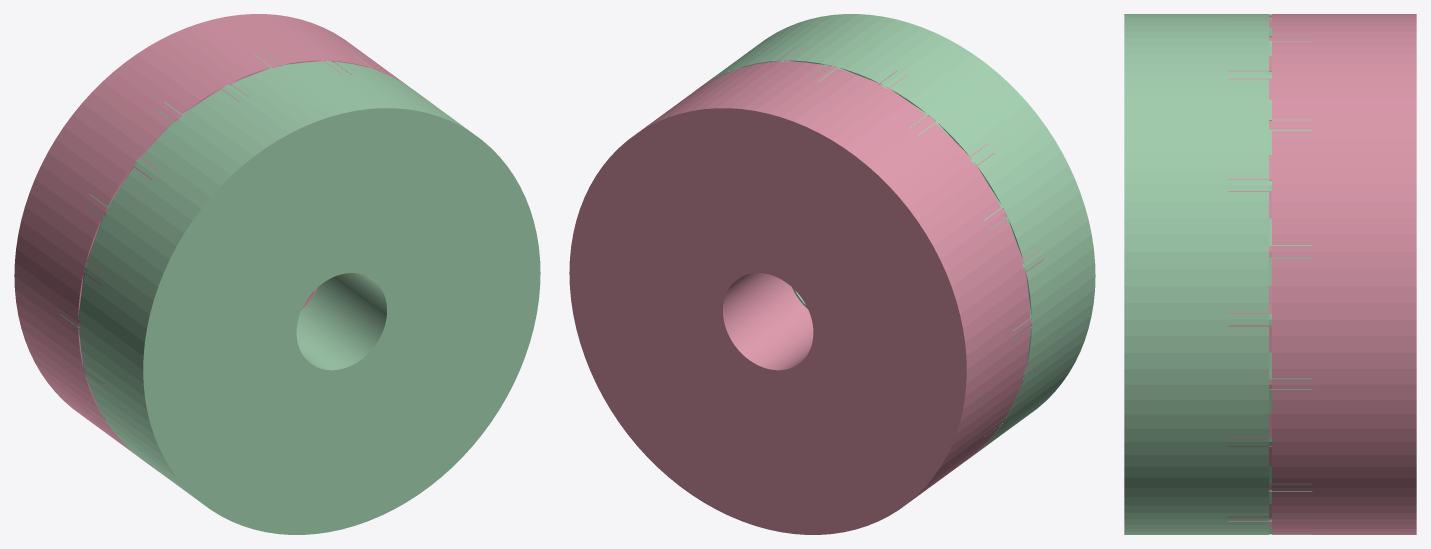
File: hirth_coupling_demo.glb
The picture shows the model from 3 angles, left to right: view 1: azimuth 30°, elevation 25°; view 2: azimuth 150°, elevation 25°; view 3: azimuth 270°, elevation 25°; orthographic projection. The views are drawn at different scales.
Parts seen in each view (by area): view 1: hub_b, hub_a; view 2: hub_a, hub_b; view 3: hub_b, hub_a.
Part boxes in pixels (box(x1,y1,x2,y2)): hub_b: box(60, 52, 540, 534); hub_a: box(14, 14, 428, 467); hub_a: box(569, 47, 1043, 534); hub_b: box(702, 14, 1095, 454); hub_b: box(1124, 14, 1312, 534); hub_a: box(1228, 14, 1416, 534).
Size of the model in its own units: 36 by 36 by 20.2.
